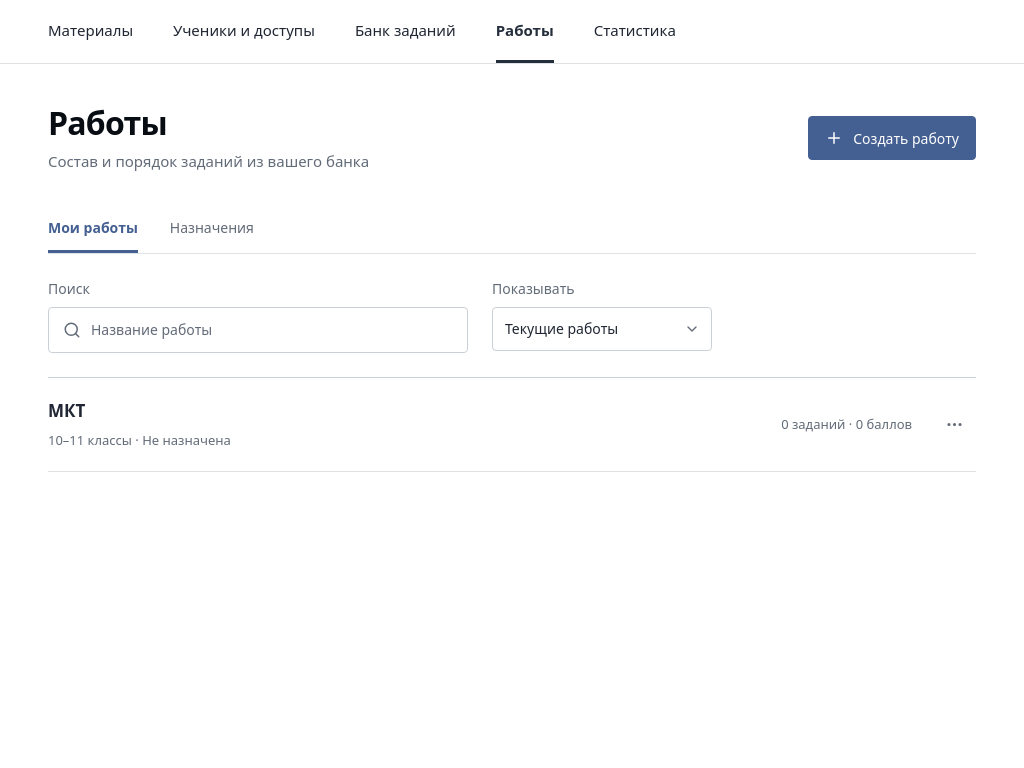
Scenario: focuses cancel, explains deletion and cancels without a write
The width and height of the screenshot is (1024, 768).
Click the button named "Действия с работой: МКТ" at [954, 424], box [932,402,976,446]
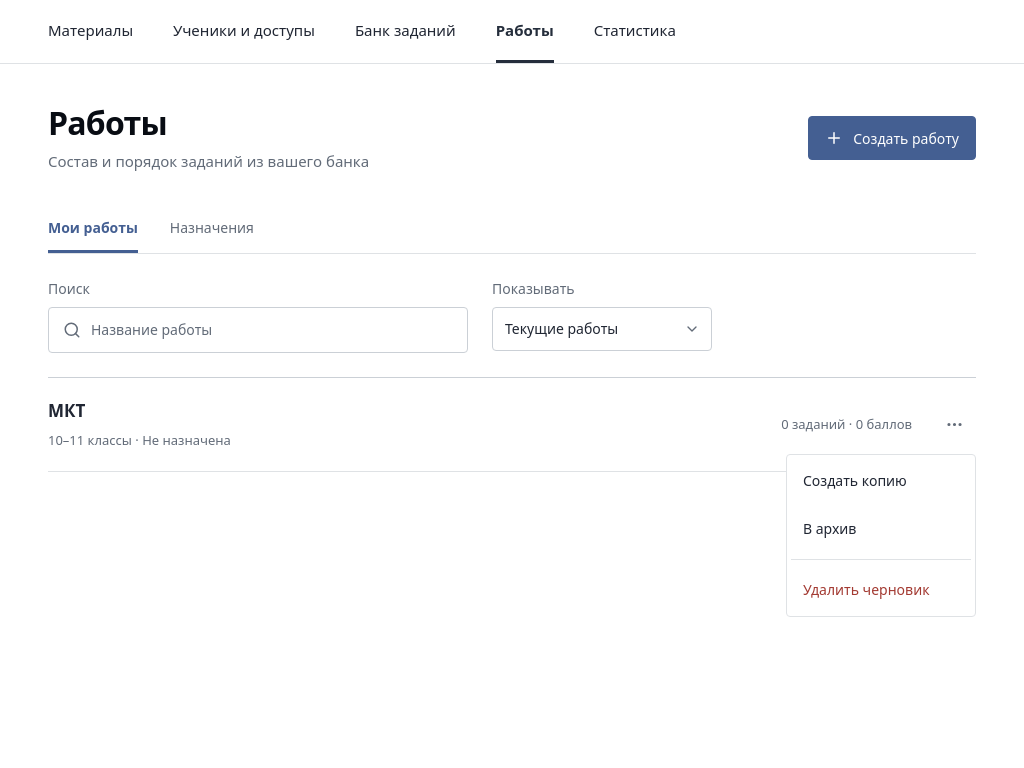
Click the menu item "Удалить черновик" at [866, 589], box [803,580,930,599]
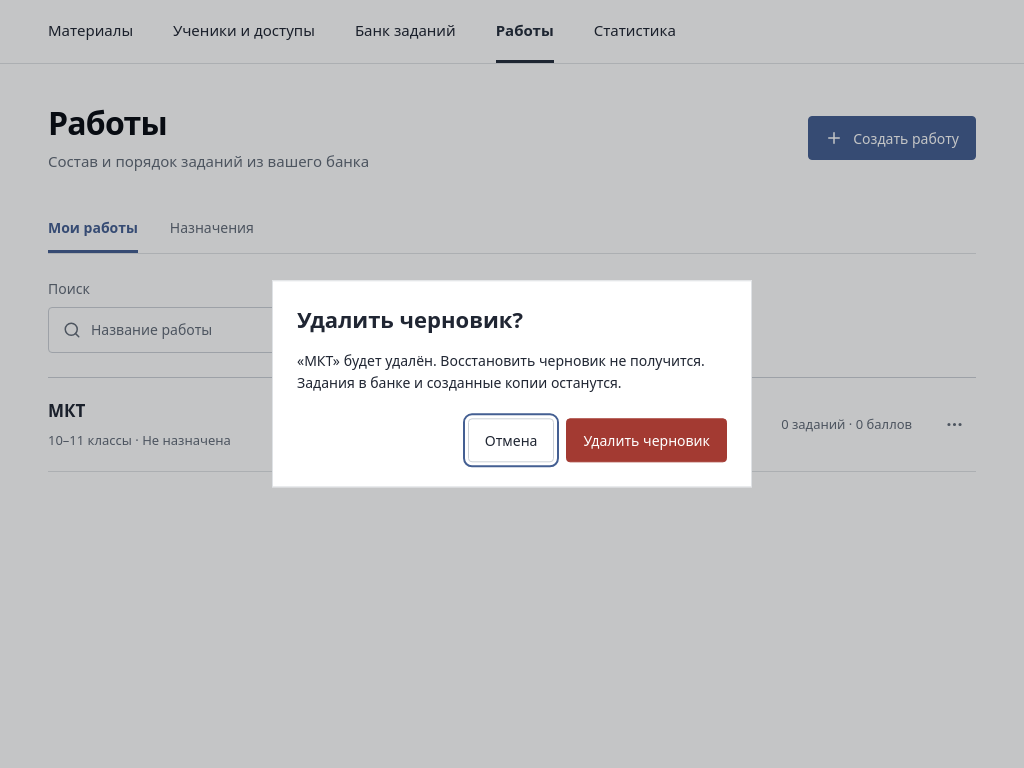
Expected: the dialog shows "Задания в банке и созданные копии останутся", [297,351,705,392]
Click the button "Отмена" at [511, 441], box [468,419,554,463]
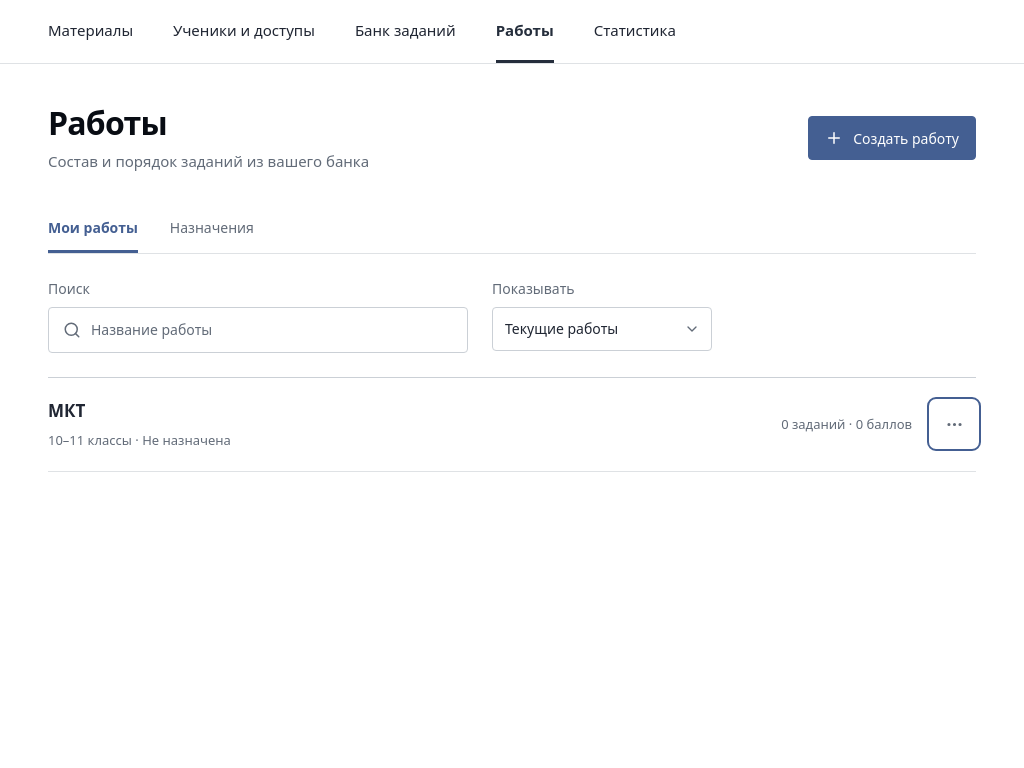
Expected: the dialog is gone
